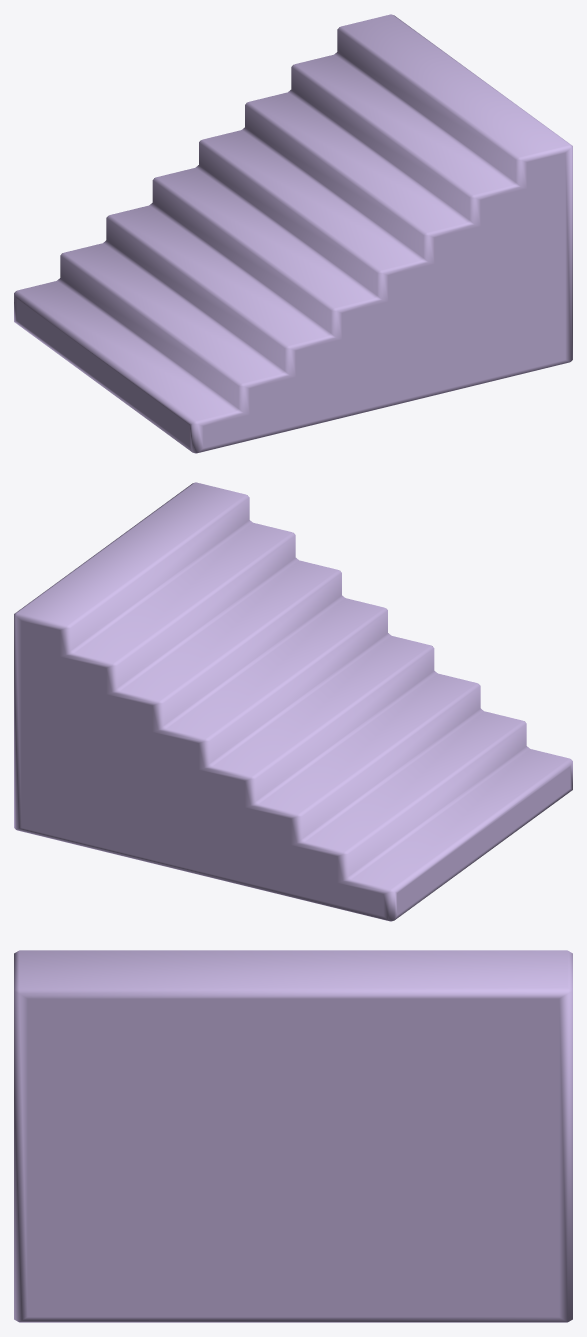
Rendered from stairs.fbx.
3 renders of one model, top to bottom at view 1: azimuth 30°, elevation 25°; view 2: azimuth 150°, elevation 25°; view 3: azimuth 270°, elevation 25°, orthographic. The views are drawn at different scales.
Visible parts, largest first — view 1: Cube; view 2: Cube; view 3: Cube.
Part boxes in pixels (box(x1,y1,x2,y2)): Cube: box(14, 14, 572, 453); Cube: box(14, 482, 572, 921); Cube: box(14, 950, 572, 1322).
Size of the model in its own units: 366 by 200 by 303.
